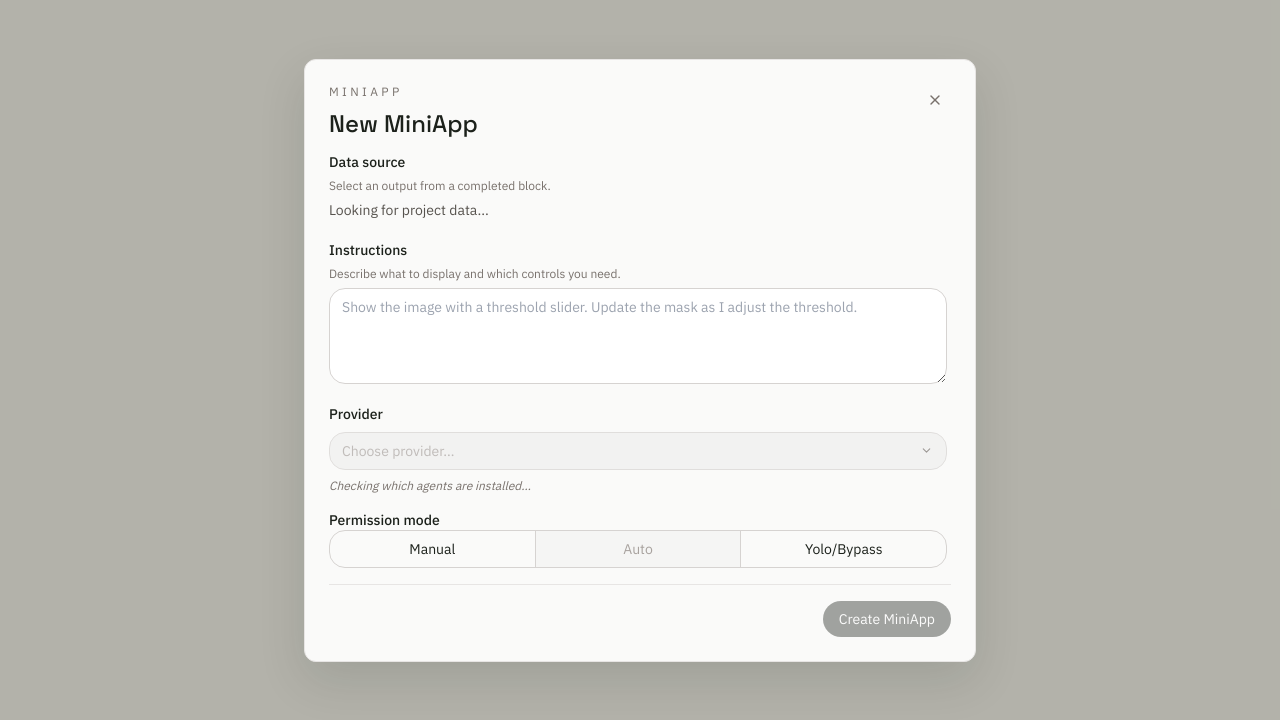
it: CreateMiniAppDialog (ADR-054 FR-023 / FR-024 / FR-025) › shows the route's launch-check reason verbatim when the agent cannot start
Replace the text in the text box with test id "miniapp-create-request" with "Threshold explorer please.". click: (638, 336)
box: [329, 288, 947, 384]
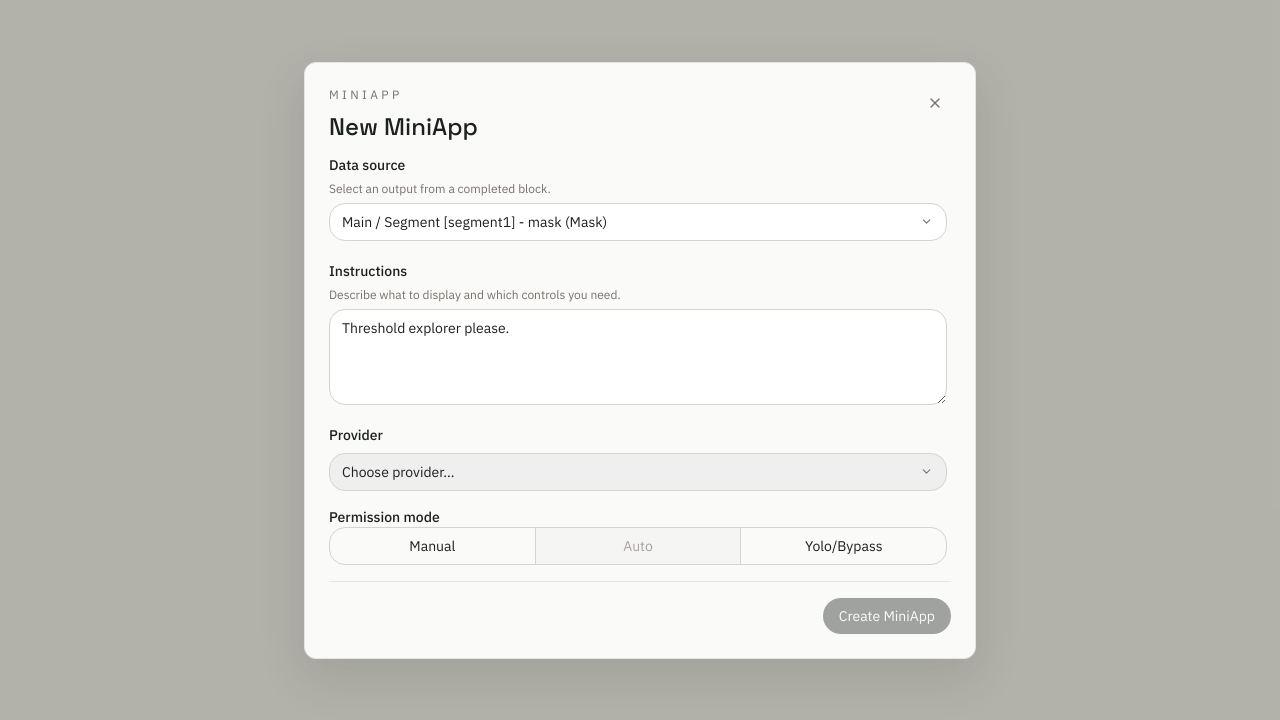
Expected: the dropdown with test id "setup-provider-select" is enabled
Select "Claude Code v9.9.9" in the dropdown with test id "setup-provider-select". click: (638, 472)
box: [329, 452, 947, 490]
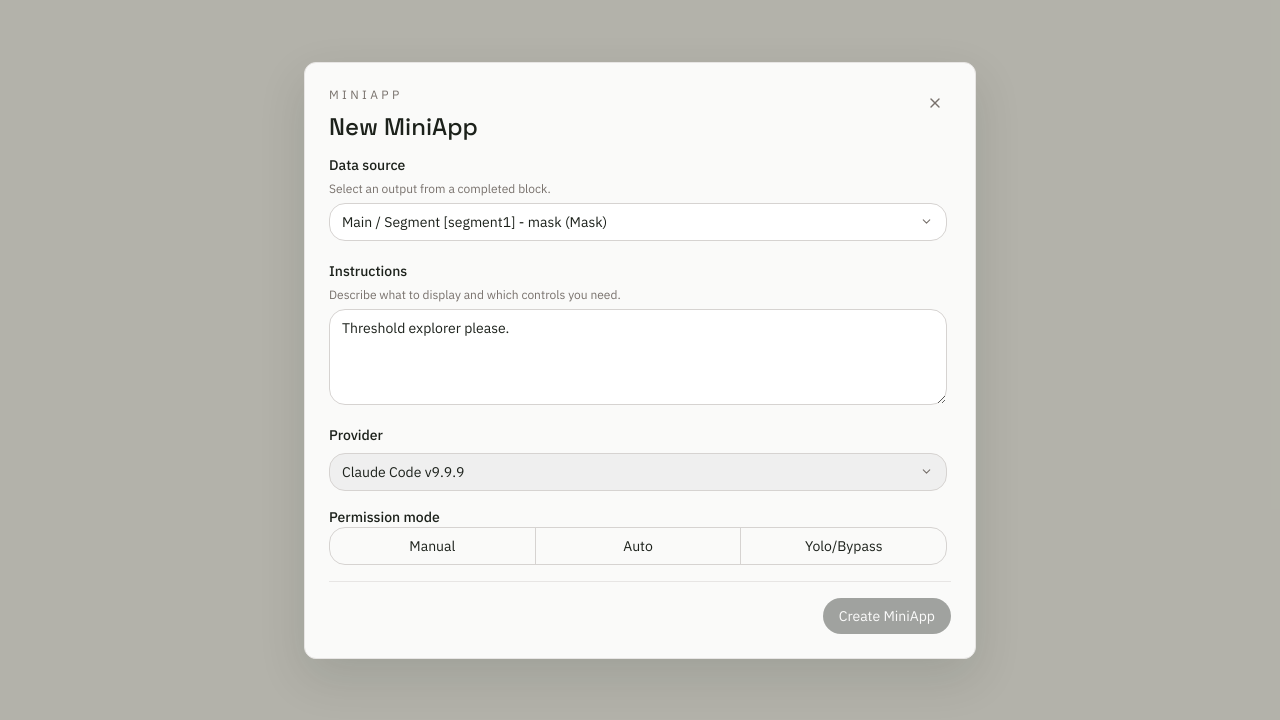
Click the radio button with test id "setup-permission-safe". click: (432, 546)
box: [330, 528, 535, 564]
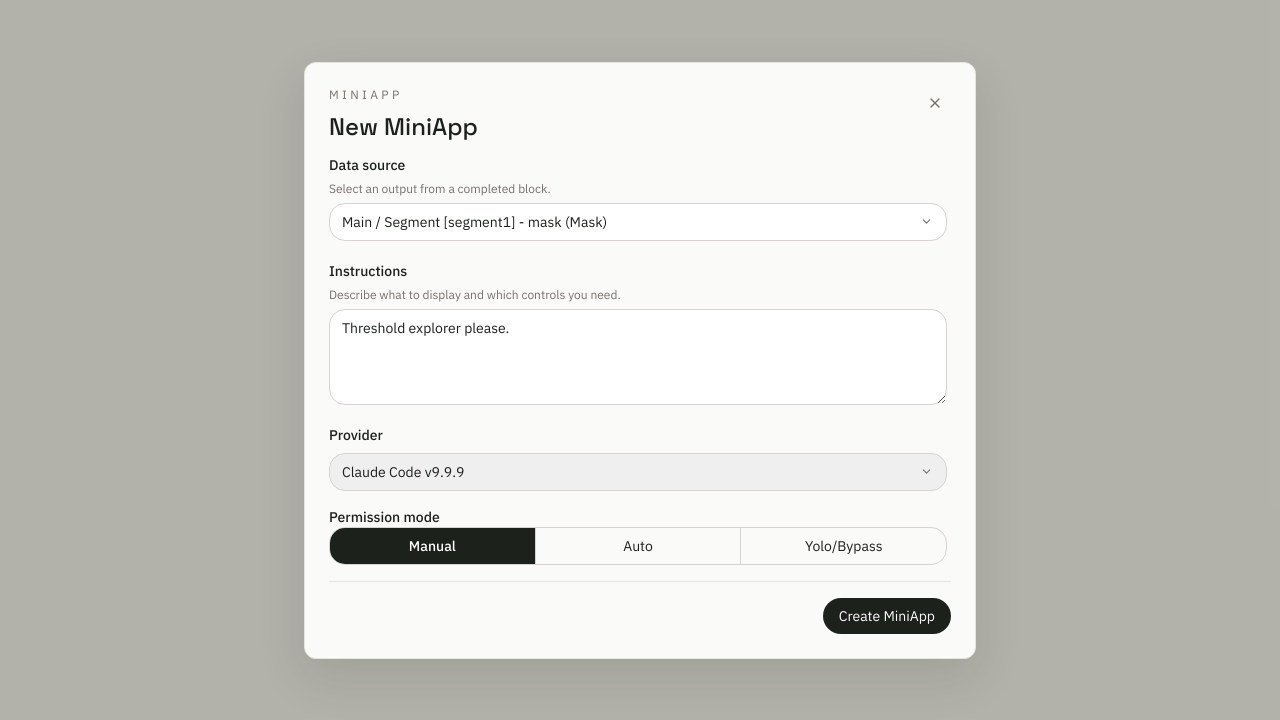
Click the button with test id "miniapp-create-submit". click: (887, 616)
box: [823, 598, 951, 634]
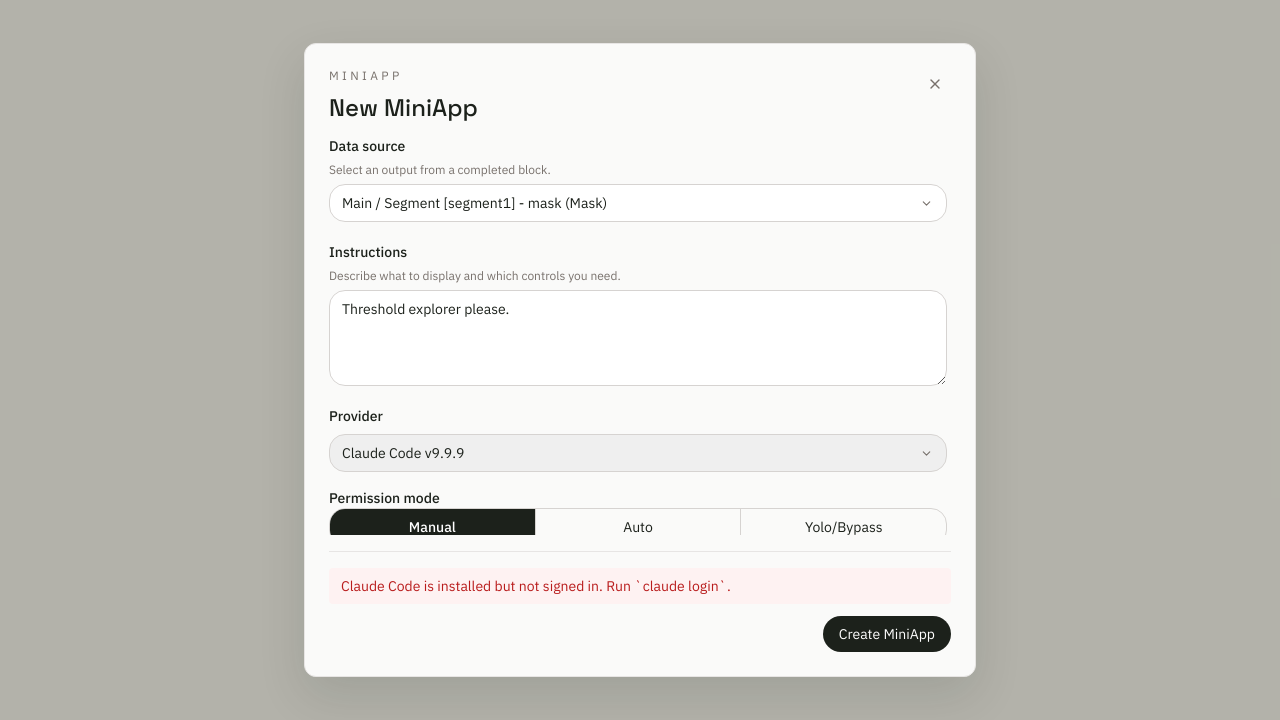
Expected: the message with test id "miniapp-create-error" reads "Claude Code is installed but not signed in. Run `claude login`.", [341, 577, 731, 595]
